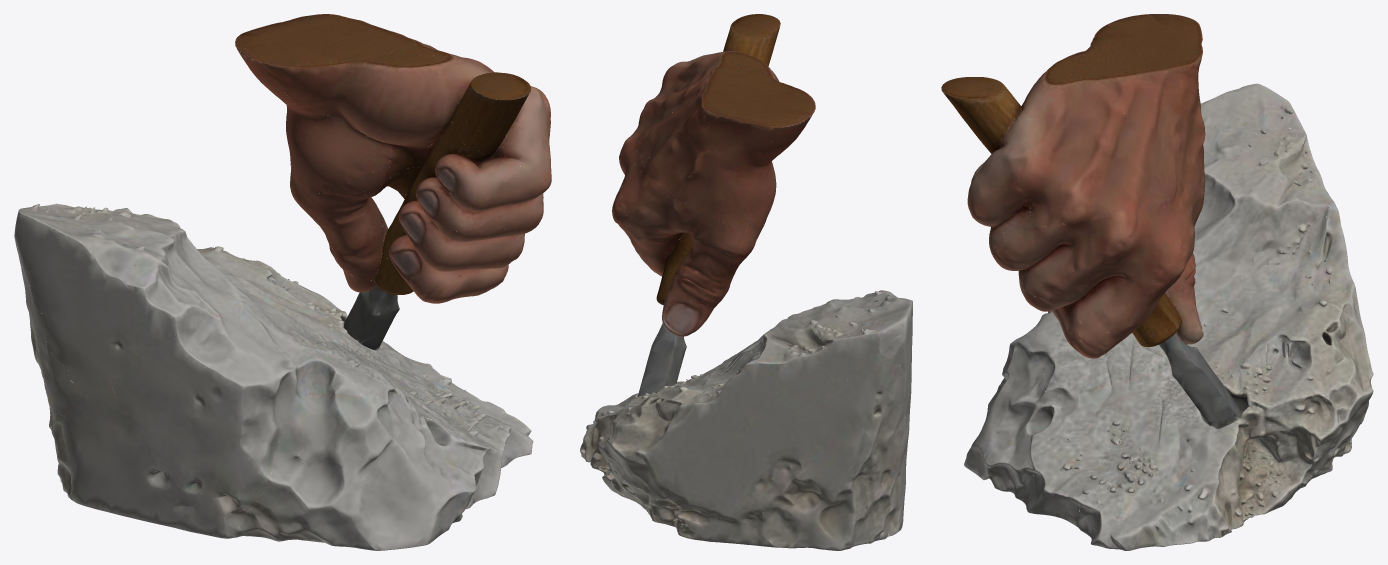
The model's file is hand.glb.
The picture shows the model from 3 angles, left to right: view 1: azimuth 30°, elevation 25°; view 2: azimuth 150°, elevation 25°; view 3: azimuth 270°, elevation 25°; orthographic projection. The views are drawn at different scales.
Visible parts, largest first — view 1: ATL_Hand_Labor; view 2: ATL_Hand_Labor; view 3: ATL_Hand_Labor.
Boxes of the visible parts, bbox=[...] form: ATL_Hand_Labor: bbox=[14, 14, 551, 550]; ATL_Hand_Labor: bbox=[580, 14, 912, 550]; ATL_Hand_Labor: bbox=[941, 14, 1373, 550].
Bounding box in the file's own units: 0.6001 × 0.5709 × 0.5396.
1 material, 1 textured.
